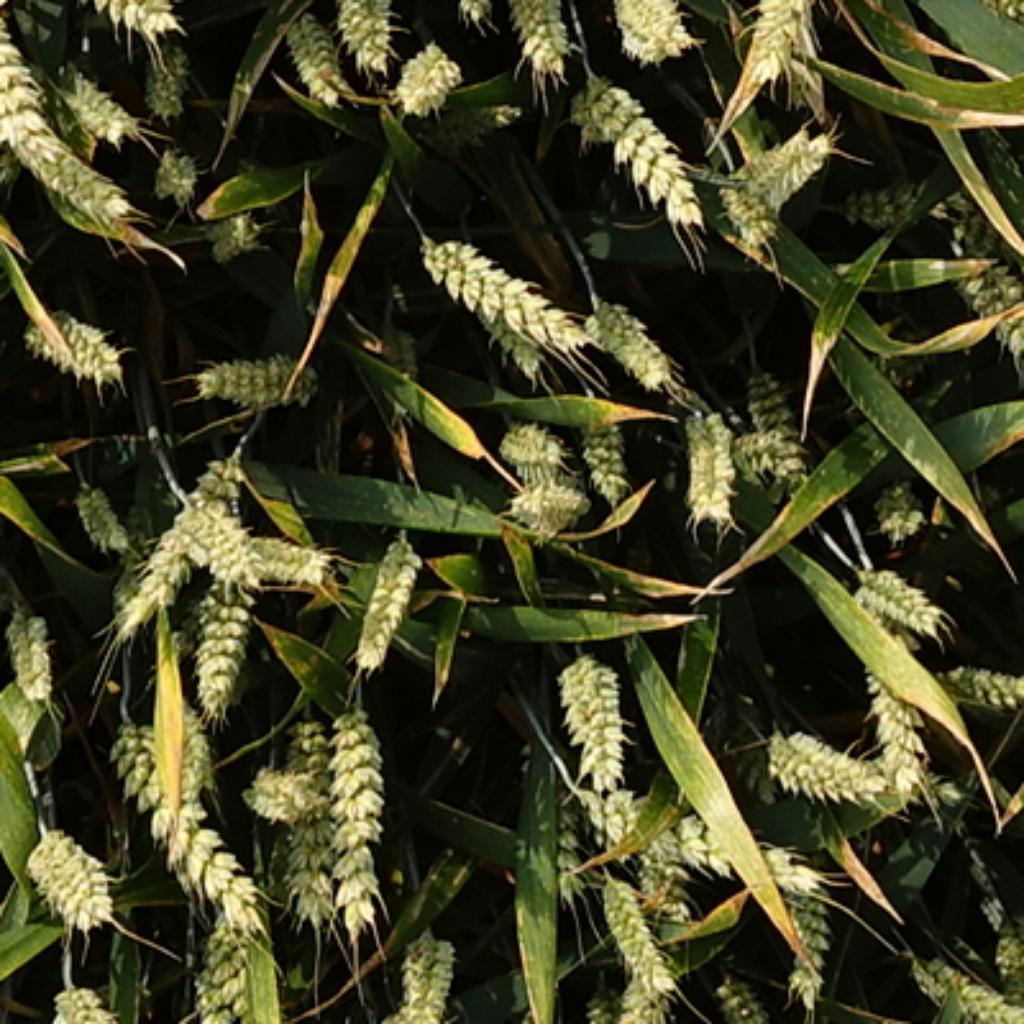0-0: (107, 719, 261, 919), (581, 785, 842, 885), (558, 56, 711, 220), (412, 232, 596, 363), (143, 465, 284, 599), (327, 704, 394, 954), (855, 563, 929, 783), (711, 110, 834, 235), (939, 209, 1024, 384), (279, 709, 340, 936), (173, 898, 281, 1024), (340, 519, 430, 668), (547, 637, 637, 778), (2, 15, 74, 189), (757, 711, 896, 801), (586, 870, 678, 1000), (20, 819, 122, 934), (770, 847, 844, 998), (181, 588, 261, 727), (578, 279, 678, 386), (17, 286, 130, 378), (186, 335, 322, 407), (675, 394, 747, 524), (737, 0, 839, 89), (40, 151, 151, 232), (209, 514, 332, 586), (386, 921, 460, 1024), (276, 0, 345, 107), (855, 558, 952, 634), (832, 158, 934, 230), (46, 58, 135, 140), (568, 773, 660, 852), (734, 363, 806, 463), (473, 302, 550, 394), (432, 89, 529, 156), (393, 28, 461, 122), (2, 593, 61, 701), (238, 750, 325, 821), (629, 857, 704, 934), (545, 791, 596, 903), (931, 655, 1024, 716), (505, 0, 573, 83), (504, 465, 591, 529), (40, 0, 186, 38), (168, 696, 217, 803), (66, 471, 130, 547), (711, 972, 803, 1024), (721, 432, 806, 488), (576, 409, 634, 491), (102, 560, 156, 647), (326, 0, 395, 68), (609, 0, 691, 56), (43, 972, 130, 1024), (867, 465, 929, 535), (138, 35, 194, 112), (494, 412, 565, 468), (983, 906, 1024, 998), (570, 988, 663, 1024), (199, 202, 263, 253), (148, 138, 202, 197)
